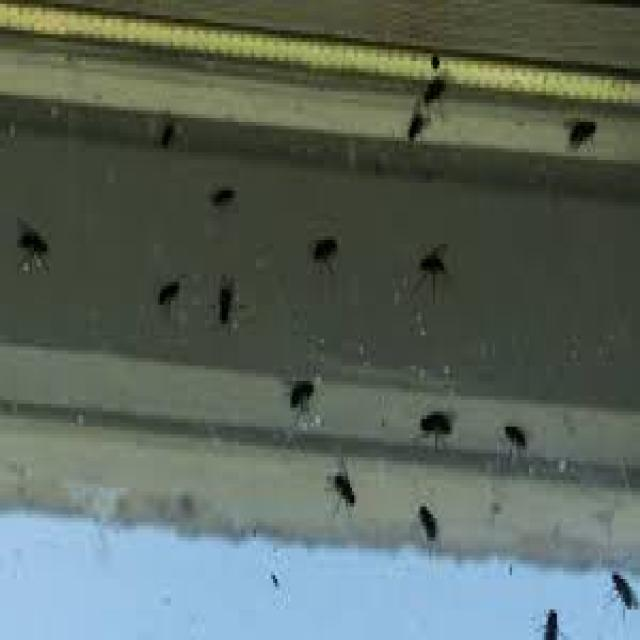fruit fly: (406, 228, 454, 308), (6, 206, 54, 278), (409, 392, 458, 458), (552, 95, 600, 160), (316, 446, 360, 514), (207, 259, 239, 335), (409, 491, 444, 560), (601, 556, 638, 621), (301, 221, 343, 278), (147, 259, 186, 316), (277, 362, 316, 419), (395, 84, 431, 145), (203, 168, 241, 221), (414, 57, 448, 114), (495, 415, 529, 461), (152, 107, 177, 156), (536, 598, 563, 636)
